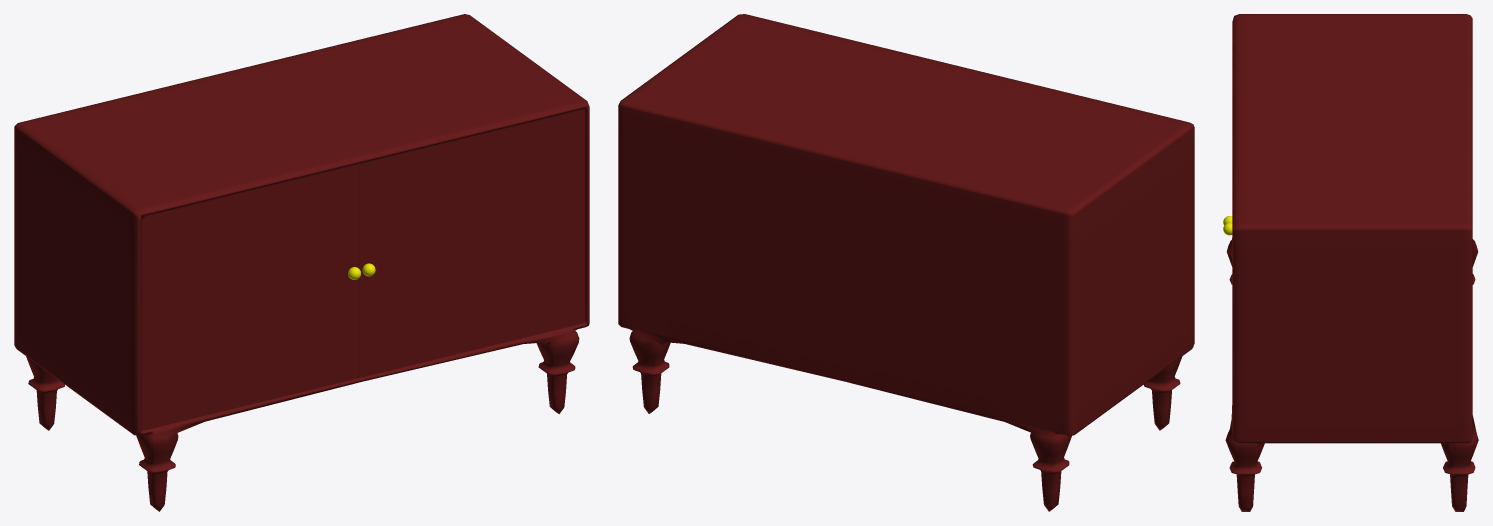
File: mini_armario.fbx
The picture shows the model from 3 angles, left to right: view 1: azimuth 30°, elevation 25°; view 2: azimuth 150°, elevation 25°; view 3: azimuth 270°, elevation 25°; orthographic projection. The views are drawn at different scales.
Parts seen in each view (by area): view 1: Estructura, Puerta_right, Puerta_left; view 2: Estructura; view 3: Estructura.
Boxes of the visible parts, x1=… form: Estructura: x1=14, y1=14, x2=589, y2=511; Puerta_right: x1=358, y1=110, x2=584, y2=377; Puerta_left: x1=141, y1=165, x2=360, y2=430; Estructura: x1=618, y1=14, x2=1194, y2=511; Estructura: x1=1225, y1=14, x2=1478, y2=511.
Bounding box in the file's own units: 2.11 × 1.37 × 1.06.
